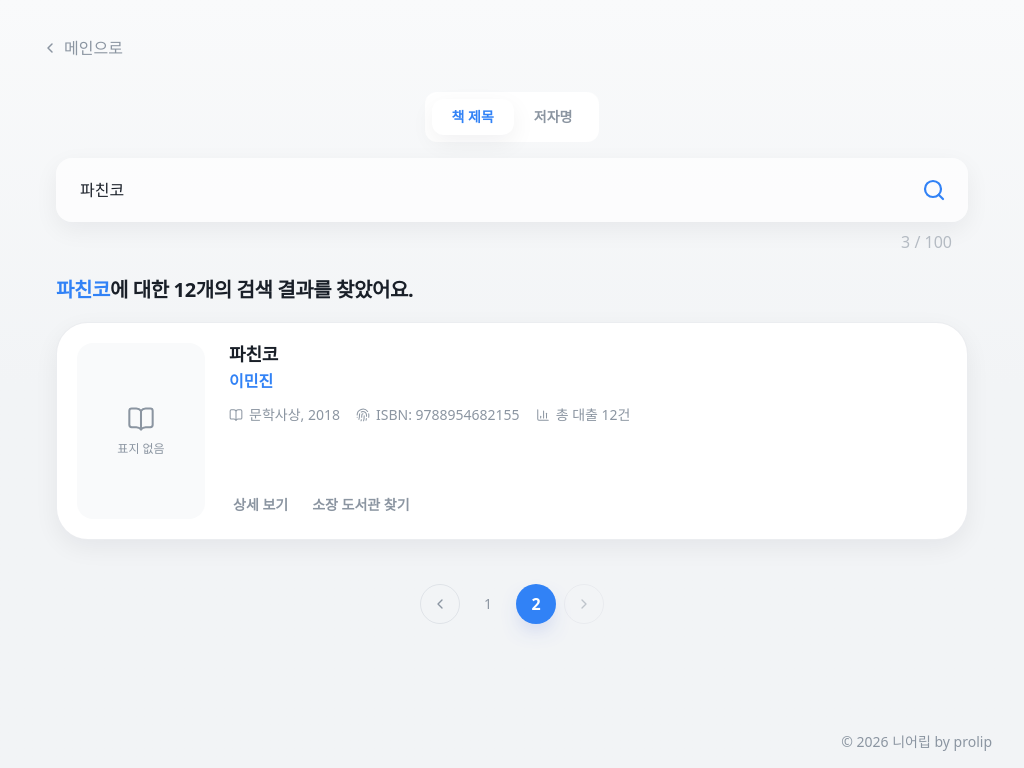
Test case: app router integration › 다시 검색하면 첫 페이지 결과로 이동한다
Replace the text in the field with "채식주의자" at (512, 190), box x1=56 y1=158 x2=968 y2=222
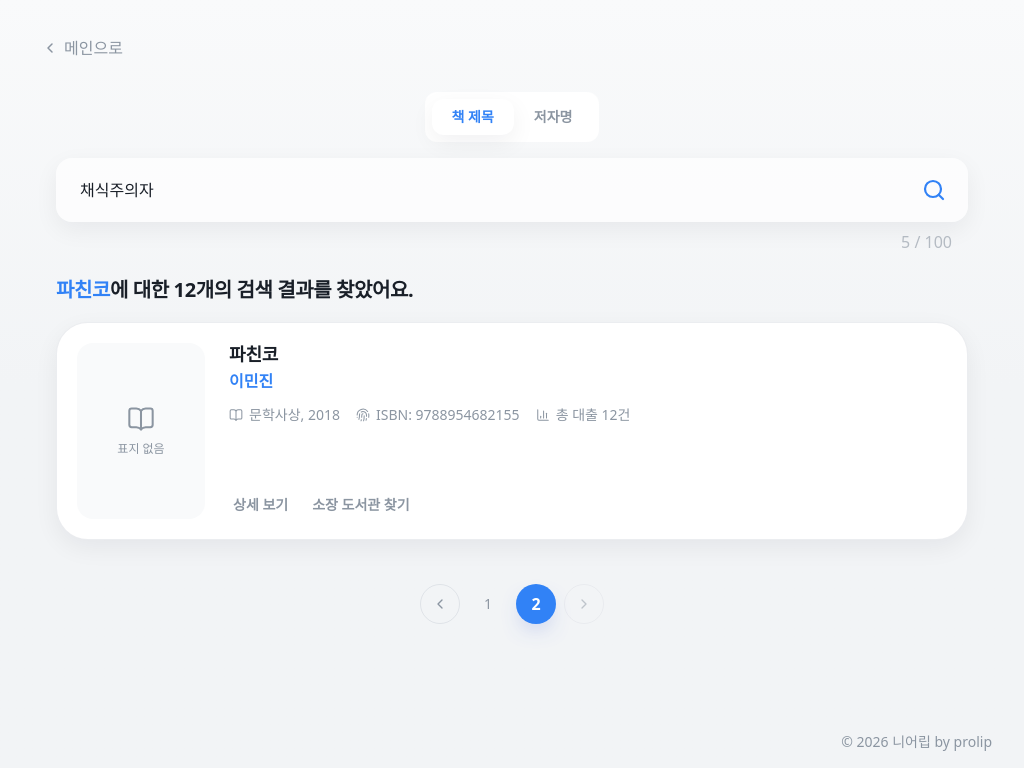
Click the button named "검색".
click(934, 190)  # box x1=912 y1=168 x2=956 y2=212
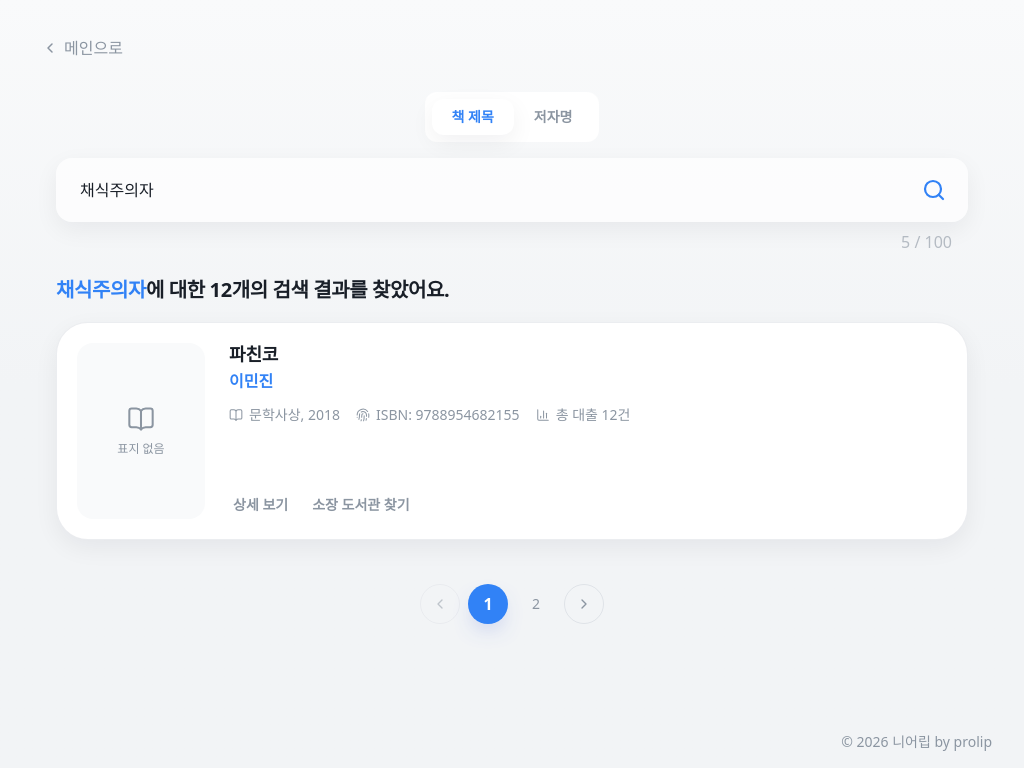
expect the text "채식주의자" is shown: met, box x1=56 y1=276 x2=146 y2=303
